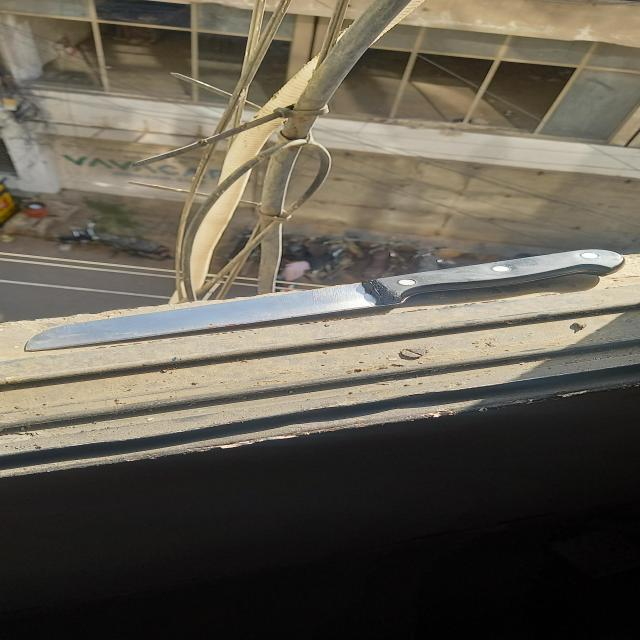Knife: (26, 249, 626, 351)
